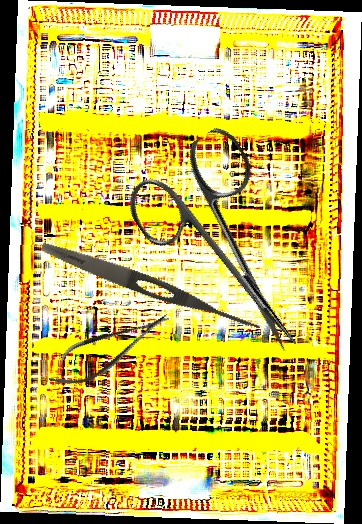Dressing Forceps: (38, 236, 264, 337)
Iris Scissors: (116, 122, 347, 381)
Micro Scissor: (40, 300, 178, 398)
